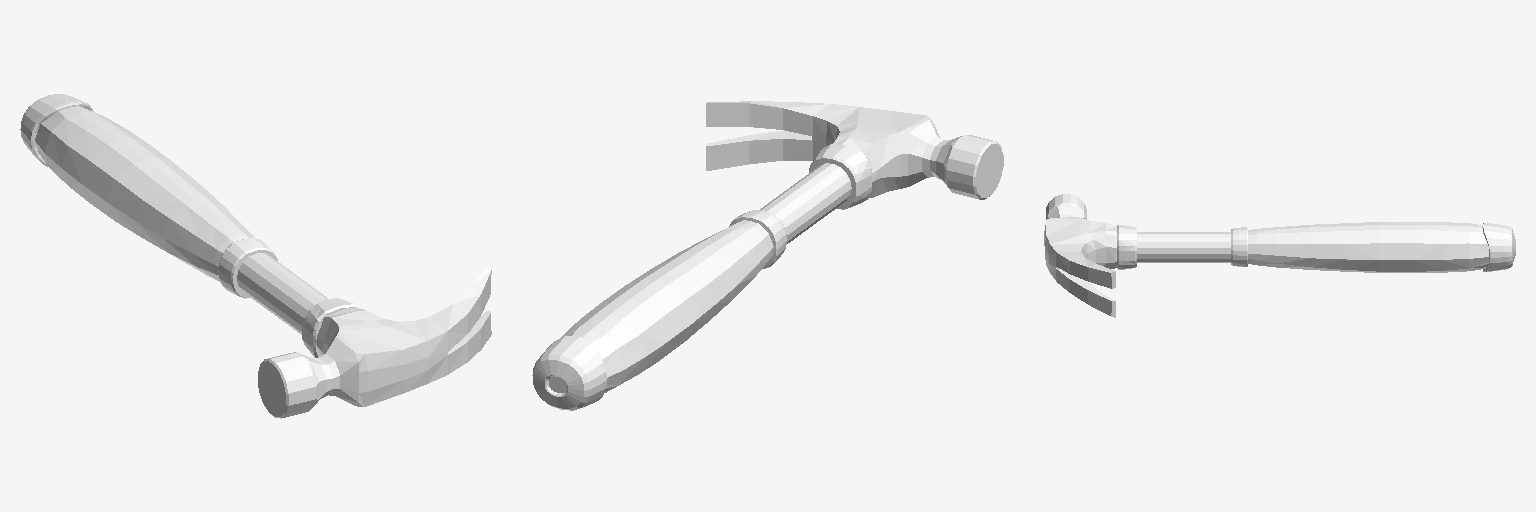
robot.urdf — hammer:
<?xml version="1.0" ?>
<robot name="hammer">
  <link name="base">
    <inertial>
        <origin rpy="0 0 0" xyz="0 0 0"/>
        <mass value="1.0"/>
        <inertia ixx="1" ixy="0" ixz="0" iyy="1" iyz="0" izz="1"/>
    </inertial>
   <visual>
     <origin rpy="0 0 0" xyz="0 0 0"/>
     <geometry>
       <mesh filename="hammer.obj" scale="1 1 1"/>
     </geometry>
      <material name="white">
       <color rgba="1 1 1 1"/>
     </material>
   </visual>
   <collision>
     <origin rpy="0 0 0" xyz="0 0 0"/>
     <geometry>
       <mesh filename="hammer_vhacd.obj" scale="1 1 1"/>
     </geometry>
   </collision>
  </link>
  <link name="grasp">
    <inertial>
      <origin rpy="0 0 0" xyz="0 0 0"/>
       <mass value="0.0"/>
       <inertia ixx="1" ixy="0" ixz="0" iyy="1" iyz="0" izz="1"/>
    </inertial>
  </link>
  <joint name="base__grasp" type="fixed">
    <origin xyz="0.0 0.02 0.0" rpy="0.0 0.0 0.0"/>
    <parent link="base"/>
    <child link="grasp"/>
  </joint>
</robot>

--- Render facts (derived) ---
Views: 3 orthographic renders of the robot side by side, from view 1: azimuth 30°, elevation 25°; view 2: azimuth 150°, elevation 25°; view 3: azimuth 270°, elevation 25°.
Model hammer with 2 links and 1 joints (1 fixed), rooted at base, posed all joints at 0.
Visible links, largest first — view 1: base; view 2: base; view 3: base.
Boxes of the visible links, x1,y1,x2,y2 form: base: (20, 94, 491, 418); base: (532, 101, 1003, 410); base: (1044, 194, 1515, 317).
Size in the robot's own frame: 0.1253 by 0.3 by 0.0331 metres.
1 mesh visuals loaded from 1 distinct referenced files (1 OBJ).